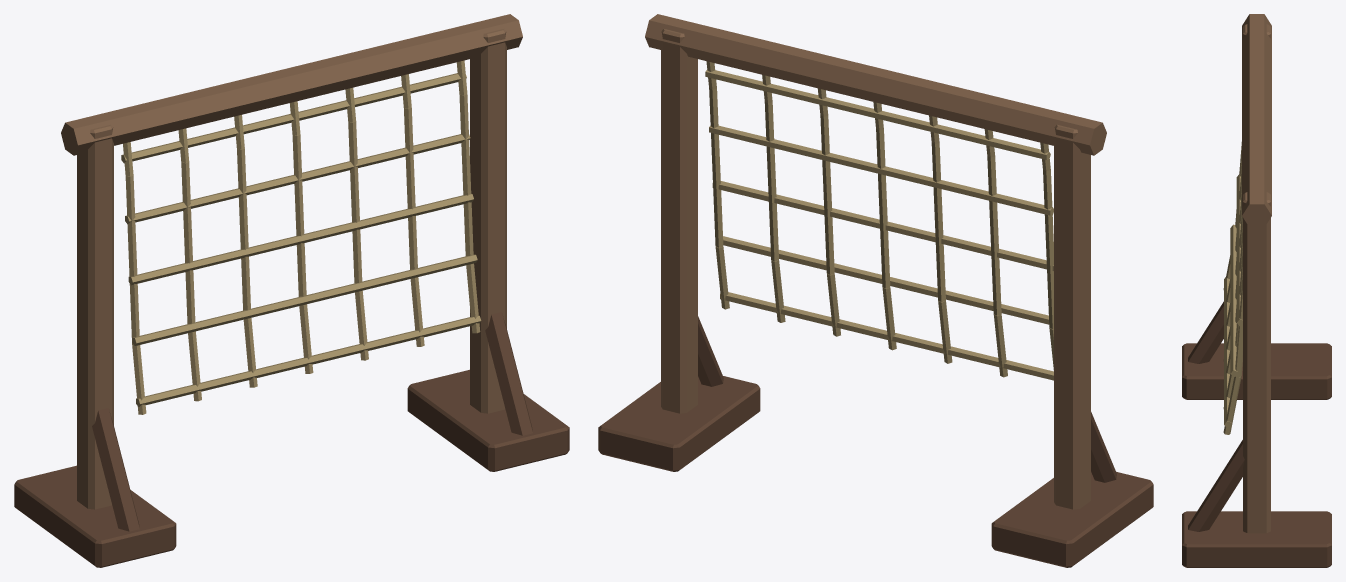
The model's file is net-rack.glb.
3 renders of one model, left to right at view 1: azimuth 30°, elevation 25°; view 2: azimuth 150°, elevation 25°; view 3: azimuth 270°, elevation 25°, orthographic. The views are drawn at different scales.
Visible parts, largest first — view 1: net-rack__body; view 2: net-rack__body; view 3: net-rack__body.
Part boxes in pixels (box(x1,y1,x2,y2)): net-rack__body: box(14, 14, 569, 567); net-rack__body: box(598, 14, 1153, 567); net-rack__body: box(1182, 14, 1331, 567).
Bounding box in the file's own units: 1.28 × 1.05 × 0.4.
